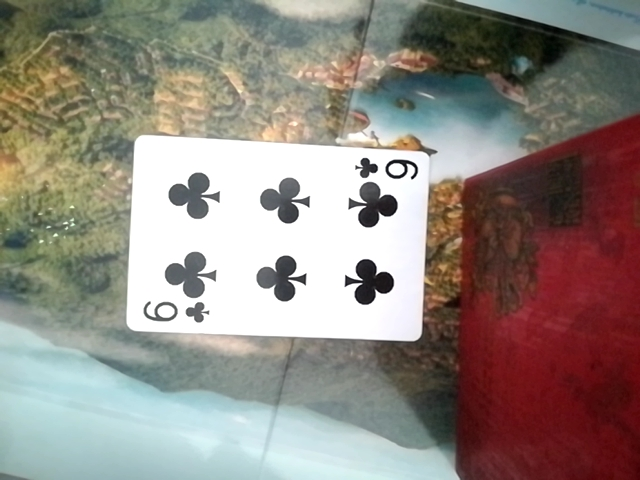mh 6: (121, 137, 435, 345)
